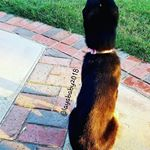puppy: (60, 1, 128, 150)
